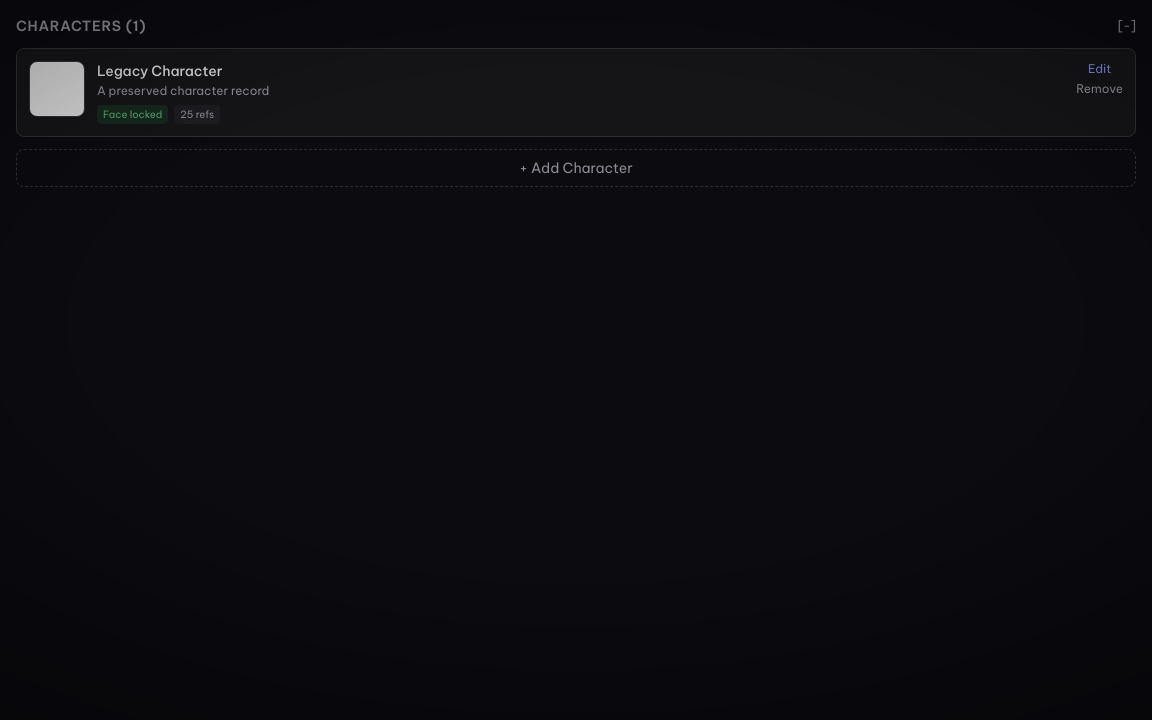
Test: CharacterPanel -- truthful character mutations › surfaces a network failure on the edit PUT and does not refresh
The image size is (1152, 720).
Click the button "Edit" at [1100, 69], box x1=1076 y1=61 x2=1123 y2=77
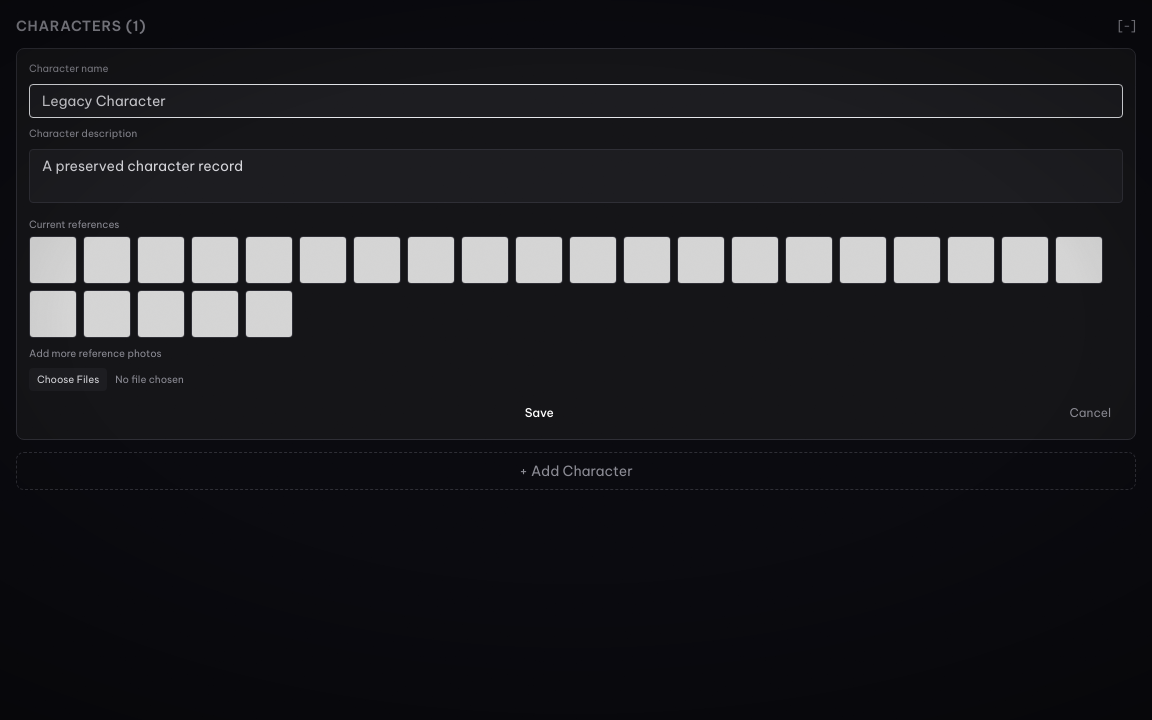
Click the button "Save" at [539, 413], box x1=29 y1=399 x2=1050 y2=427
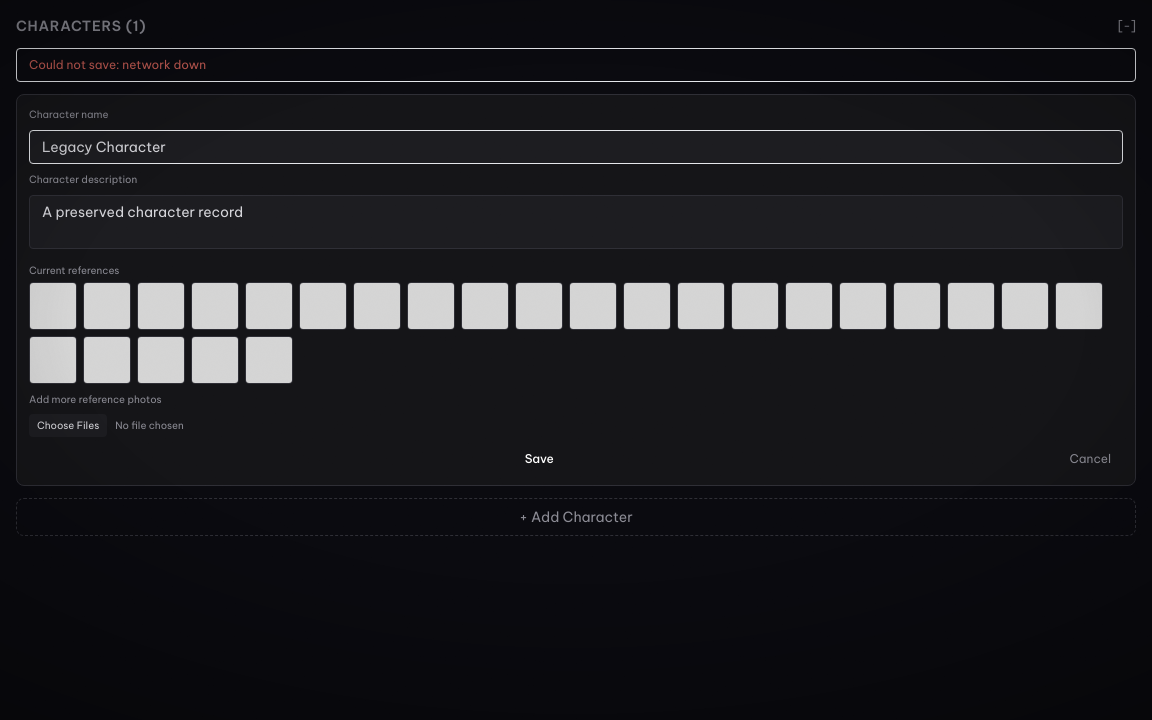
Result: the field showing "Legacy Character" is shown at x1=29 y1=130 x2=1123 y2=164
Result: the message shows "network down" at x1=122 y1=57 x2=206 y2=72
